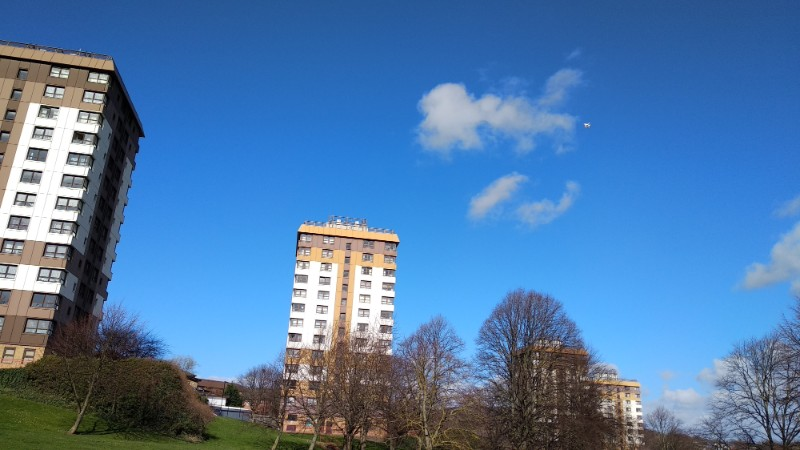drone: (582, 120, 591, 132)
